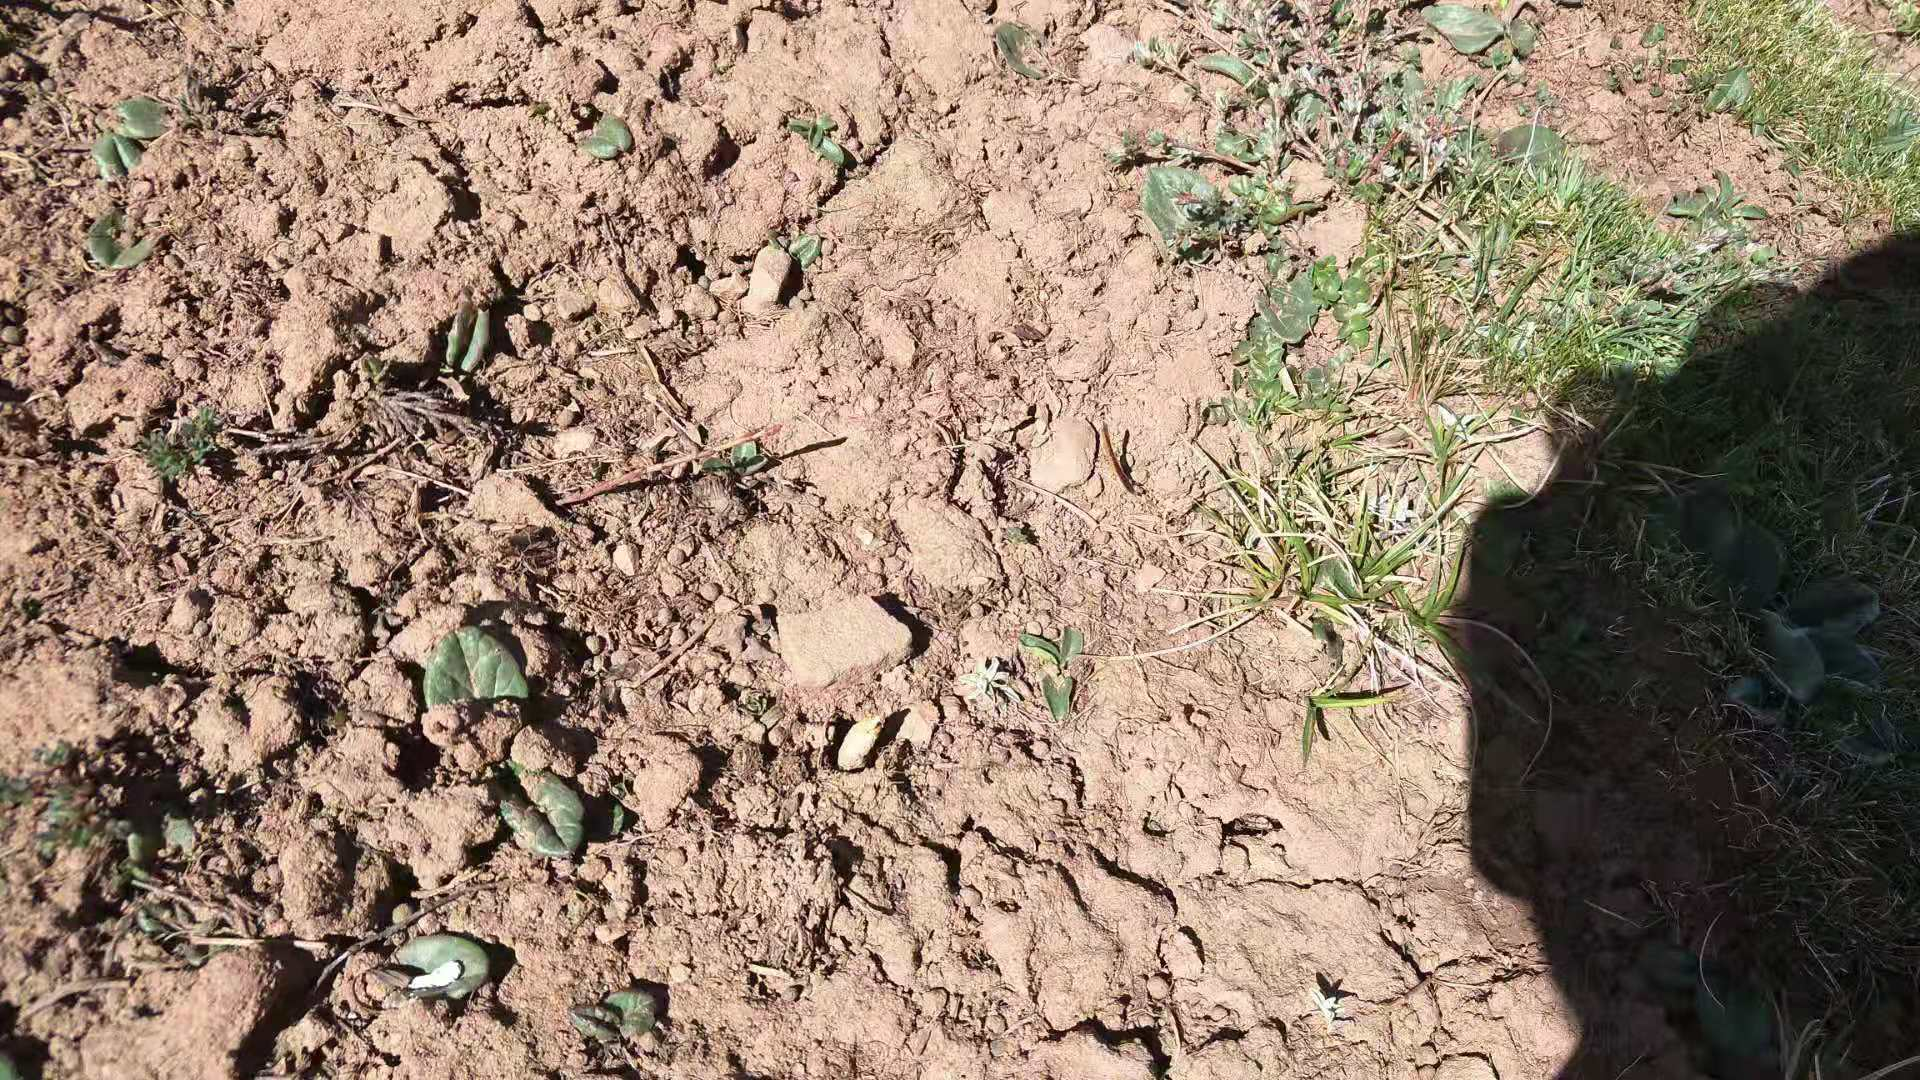Chongcao: (1098, 421, 1141, 495)
